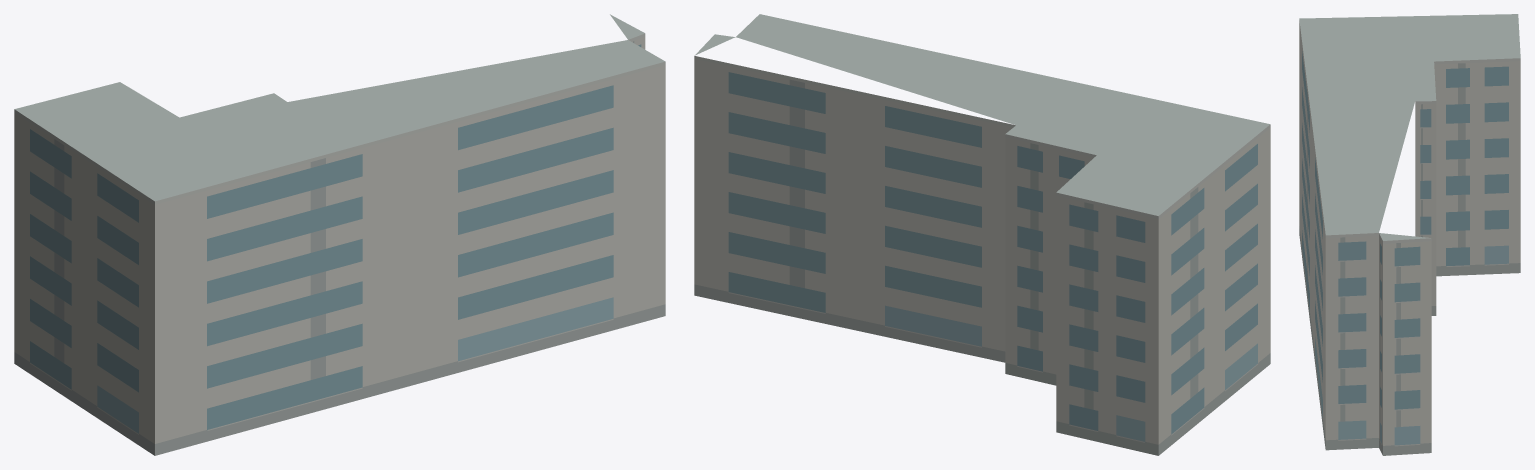
Rendered from survey-upis-32955867.glb.
The picture shows the model from 3 angles, left to right: view 1: azimuth 30°, elevation 25°; view 2: azimuth 150°, elevation 25°; view 3: azimuth 270°, elevation 25°; orthographic projection. The views are drawn at different scales.
Parts seen in each view (by area): view 1: survey-upis-32955867.tmp; view 2: survey-upis-32955867.tmp; view 3: survey-upis-32955867.tmp.
Part boxes in pixels (x1,y1,x2,y2): survey-upis-32955867.tmp: (14,14,665,455); survey-upis-32955867.tmp: (694,14,1270,455); survey-upis-32955867.tmp: (1299,14,1520,455).
Bounding box in the file's own units: 41.48 × 18.3 × 17.11.
